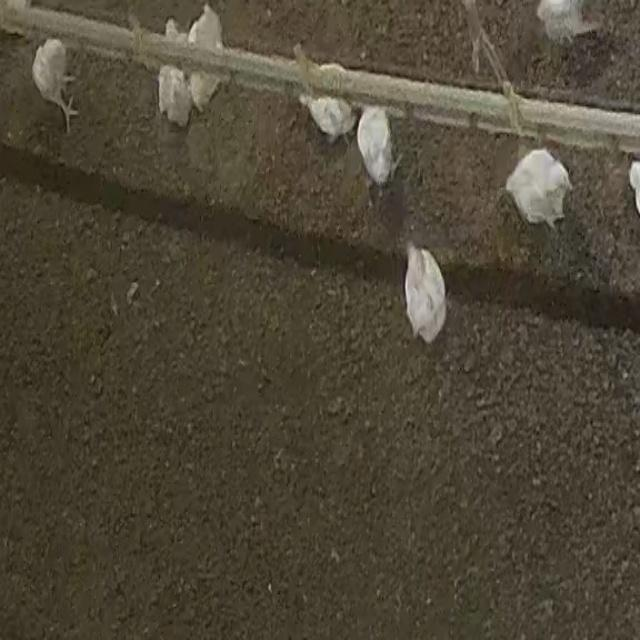chicken: (504, 144, 574, 235), (28, 34, 92, 127), (399, 239, 451, 348), (358, 96, 402, 188)
